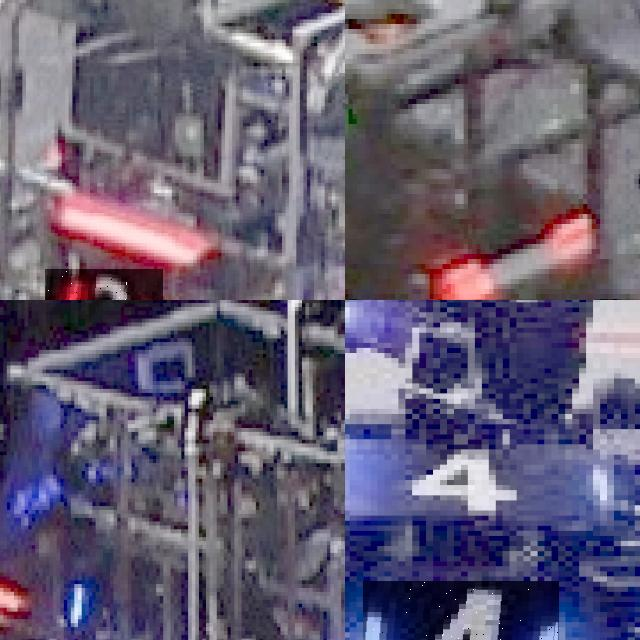B4: (345, 434, 614, 515), (363, 581, 558, 640)
R2: (45, 269, 162, 300)
